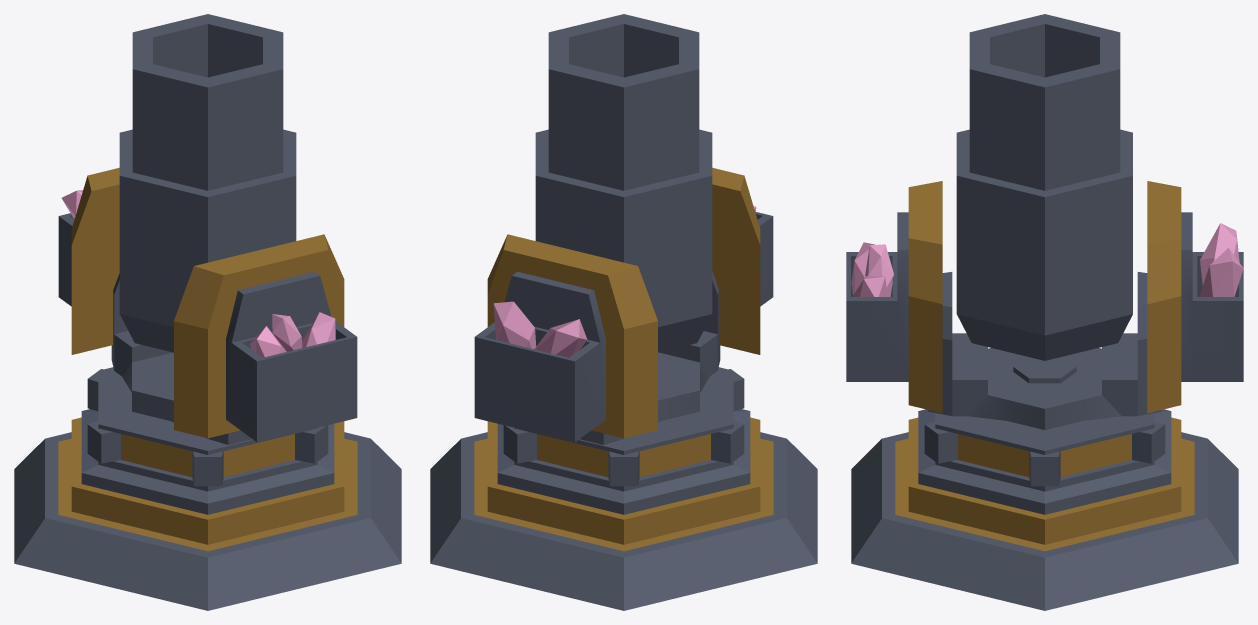
The model's file is turret3_remodel.fbx.
3 views of the same model, side by side, from view 1: azimuth 30°, elevation 25°; view 2: azimuth 150°, elevation 25°; view 3: azimuth 270°, elevation 25° (orthographic).
Parts seen in each view (by area): view 1: turret3new_head, turret3new_base; view 2: turret3new_head, turret3new_base; view 3: turret3new_head, turret3new_base.
Boxes of the visible parts, x1,y1,x2,y2 form: turret3new_head: [58, 14, 357, 444]; turret3new_base: [14, 367, 401, 610]; turret3new_head: [474, 14, 773, 444]; turret3new_base: [430, 367, 817, 610]; turret3new_head: [846, 14, 1243, 429]; turret3new_base: [851, 356, 1238, 610].
Bounding box in the file's own units: 0.8294 × 0.9526 × 0.7366.
